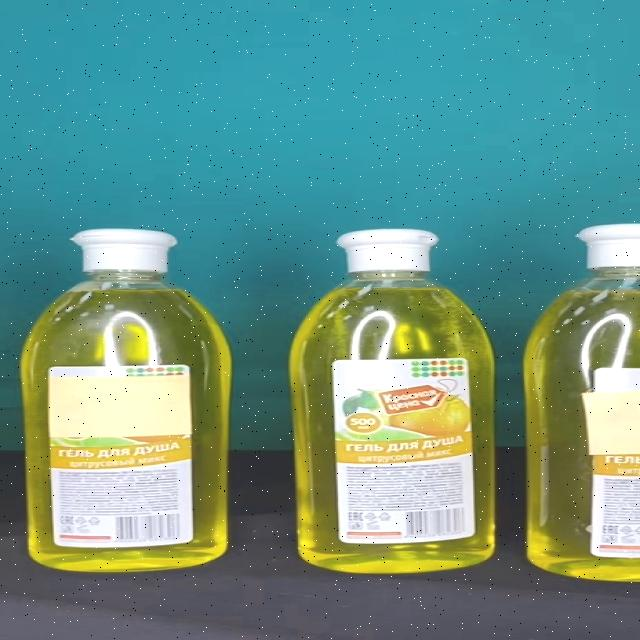Bottle: (21, 229, 233, 572), (288, 230, 496, 574)
Cap: (336, 230, 440, 272), (72, 230, 176, 272)
